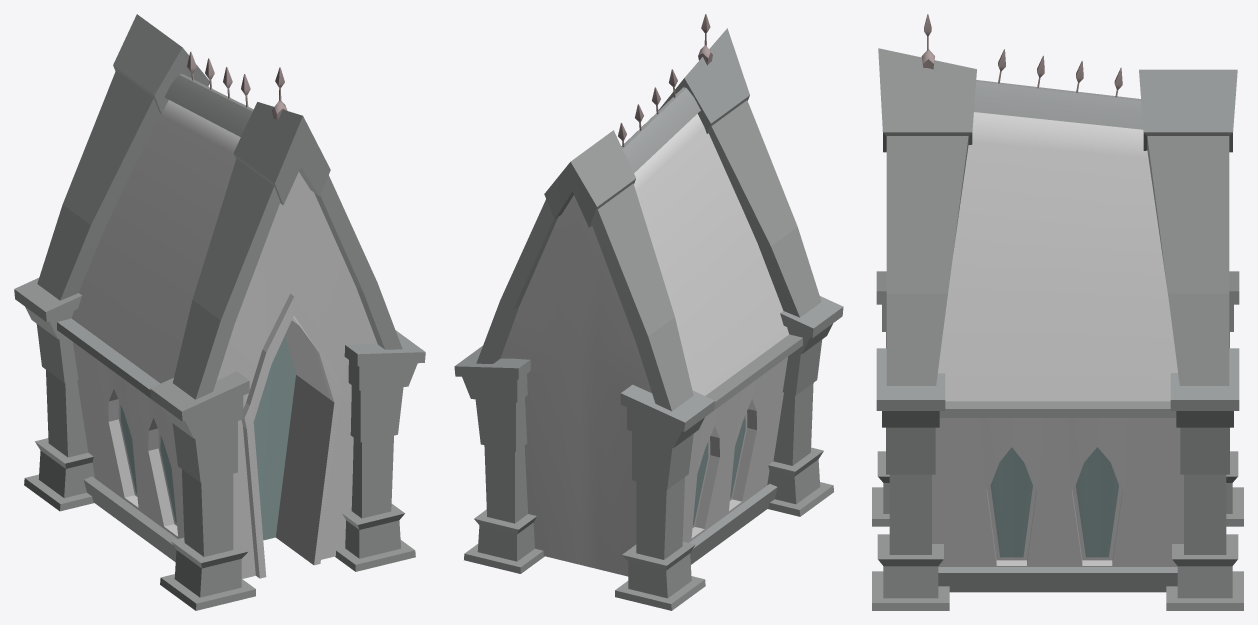
The model's file is house 1.fbx.
3 renders of one model, left to right at view 1: azimuth 30°, elevation 25°; view 2: azimuth 150°, elevation 25°; view 3: azimuth 270°, elevation 25°, orthographic. The views are drawn at different scales.
Parts seen in each view (by area): view 1: House; view 2: House; view 3: House.
Part boxes in pixels (x1,y1,x2,y2): House: (14,14,425,610); House: (454,14,843,610); House: (872,14,1243,610).
Bounding box in the file's own units: 1011 × 1971 × 1233.
